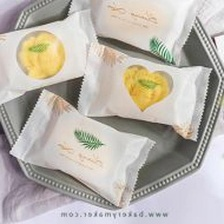snack: (6, 84, 160, 212), (72, 38, 215, 145), (0, 4, 109, 108), (62, 0, 213, 69)
